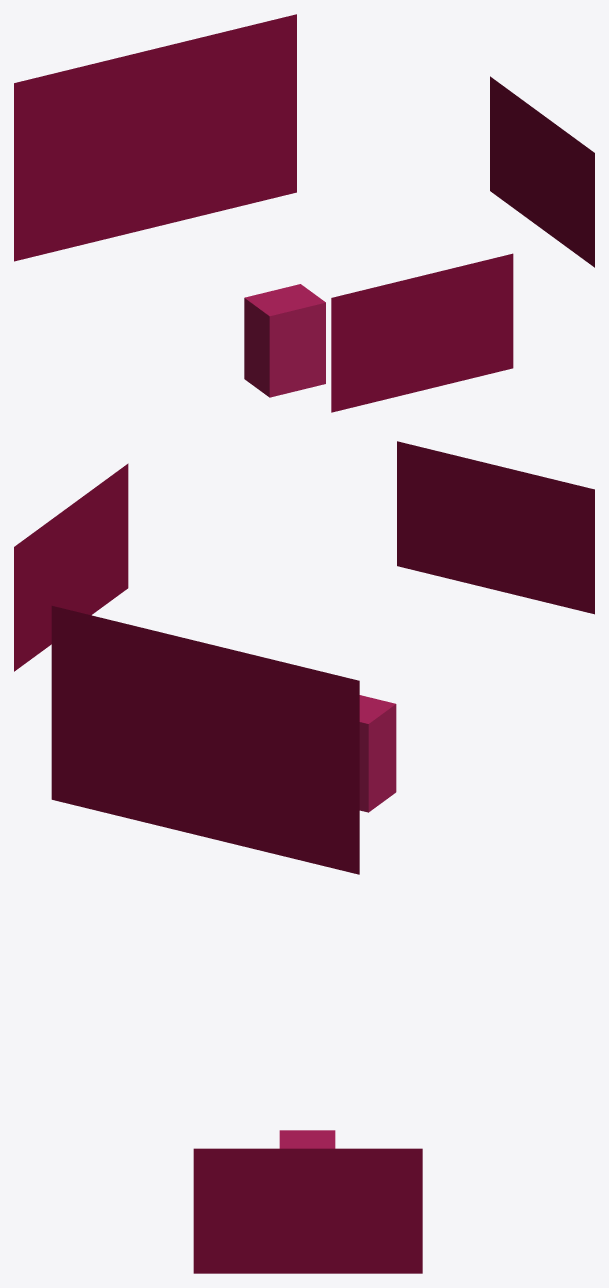
File: sala_konferencyjna.obj
3 views of the same model, one above another, from view 1: azimuth 30°, elevation 25°; view 2: azimuth 150°, elevation 25°; view 3: azimuth 270°, elevation 25° (orthographic). The views are drawn at different scales.
Parts seen in each view (by area): view 1: Board, user_screen, Presentation_screen, platform_3dobj; view 2: Board, user_screen, Presentation_screen, platform_3dobj; view 3: Presentation_screen, platform_3dobj.
Part boxes in pixels (left/top/right/bottom): Board: left=14, top=14, right=296, bottom=261; user_screen: left=331, top=253, right=513, bottom=412; Presentation_screen: left=490, top=76, right=594, bottom=267; platform_3dobj: left=244, top=284, right=325, bottom=397; Board: left=51, top=606, right=359, bottom=874; user_screen: left=397, top=441, right=594, bottom=614; Presentation_screen: left=14, top=463, right=128, bottom=671; platform_3dobj: left=359, top=695, right=396, bottom=812; Presentation_screen: left=193, top=1148, right=422, bottom=1273; platform_3dobj: left=279, top=1130, right=335, bottom=1148.
Size of what is drawn, in the model's own units: 3251 by 1845 by 3786.
